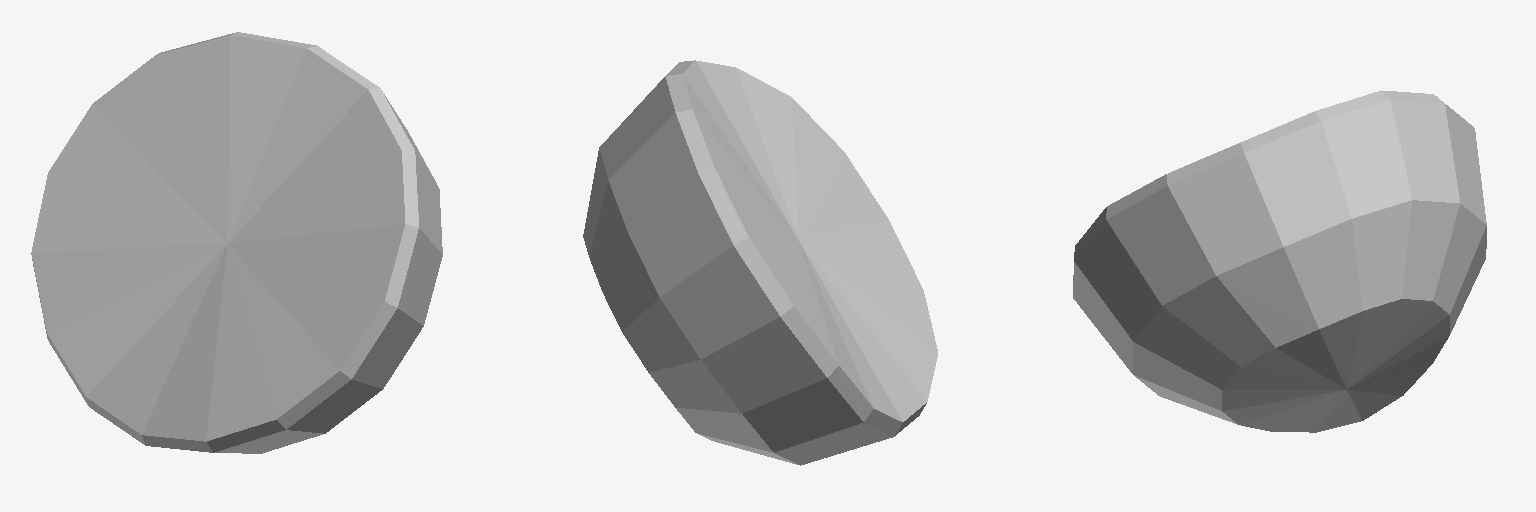
The model's file is mesh_gem.obj.
3 renders of one model, left to right at view 1: azimuth 30°, elevation 25°; view 2: azimuth 150°, elevation 25°; view 3: azimuth 270°, elevation 25°, orthographic.
Visible parts, largest first — view 1: gem group3; view 2: gem group3; view 3: gem group3.
Boxes of the visible parts, x1=… form: gem group3: x1=31, y1=32, x2=442, y2=453; gem group3: x1=583, y1=60, x2=937, y2=465; gem group3: x1=1073, y1=90, x2=1486, y2=432.
Bounding box in the file's own units: 3.19 × 3.45 × 3.63.